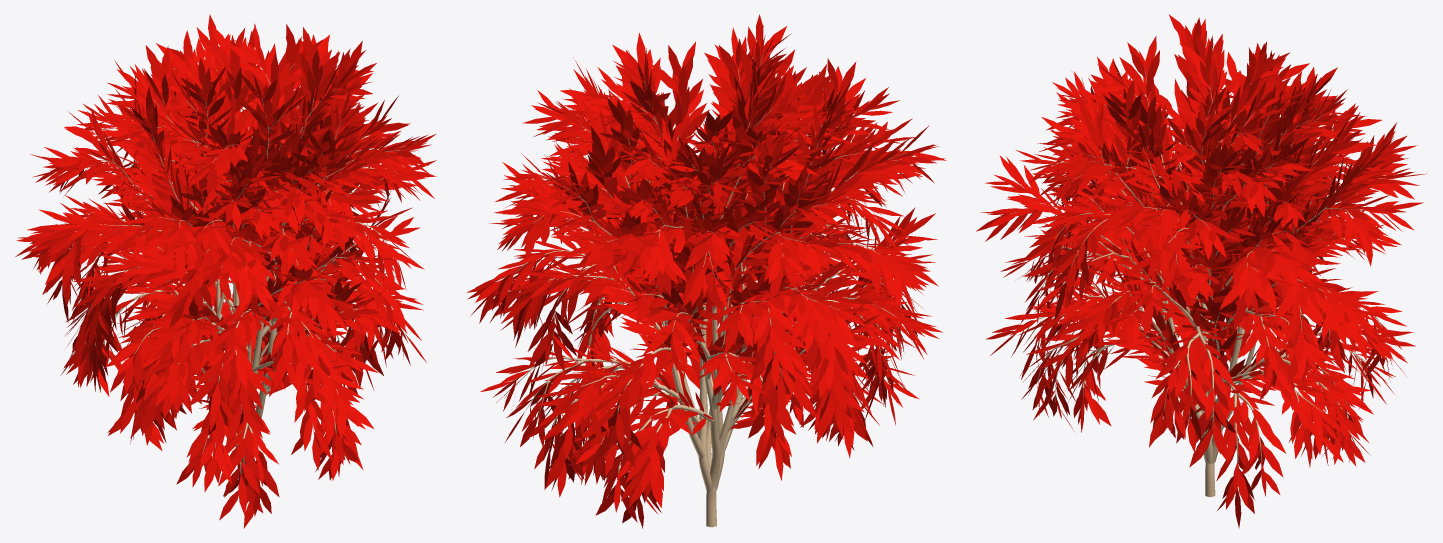
File: tree_02.glb
The picture shows the model from 3 angles, left to right: view 1: azimuth 30°, elevation 25°; view 2: azimuth 150°, elevation 25°; view 3: azimuth 270°, elevation 25°; orthographic projection. The views are drawn at different scales.
Visible parts, largest first — view 1: leaves, tree_02; view 2: leaves, tree_02; view 3: leaves, tree_02.
Part boxes in pixels (left/top/right/bottom): leaves: left=15, top=14, right=436, bottom=528; tree_02: left=72, top=59, right=403, bottom=474; leaves: left=466, top=14, right=946, bottom=528; tree_02: left=502, top=55, right=906, bottom=527; leaves: left=976, top=14, right=1426, bottom=528; tree_02: left=1010, top=69, right=1384, bottom=497.
Size of the model in its own units: 4.02 by 4.56 by 4.22.
